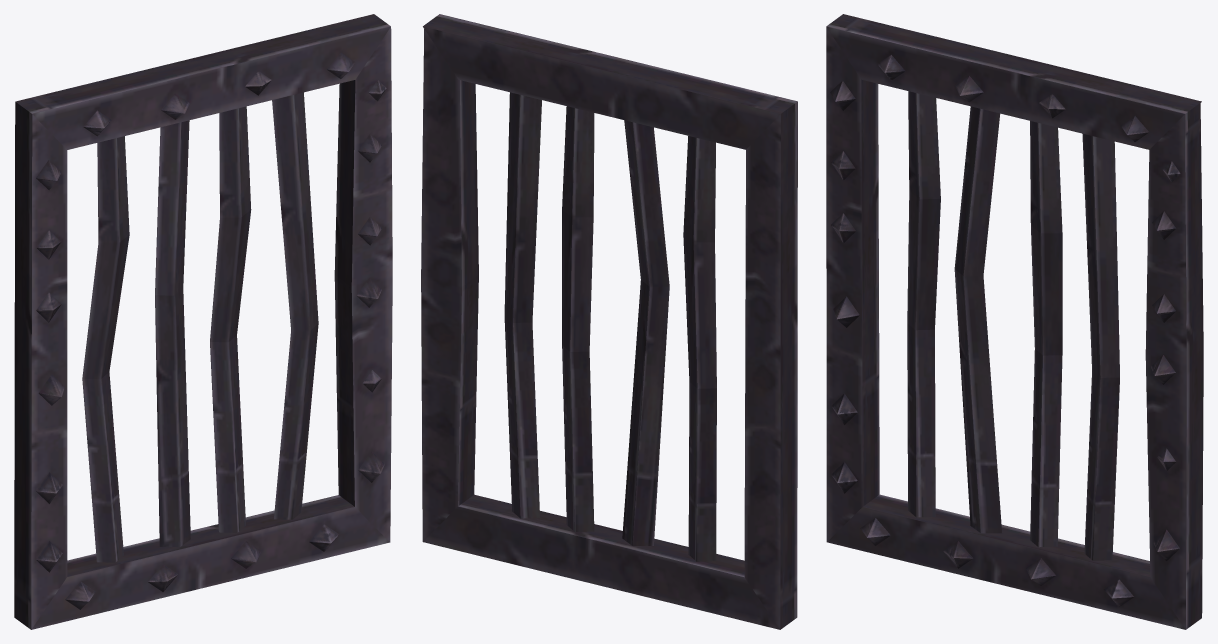
File: lava_wallgrate_02.fbx
3 renders of one model, left to right at view 1: azimuth 30°, elevation 25°; view 2: azimuth 150°, elevation 25°; view 3: azimuth 330°, elevation 25°, orthographic.
Visible parts, largest first — view 1: obj0.104; view 2: obj0.104; view 3: obj0.104.
Boxes of the visible parts, x1,y1,x2,y2 form: obj0.104: [14, 14, 392, 629]; obj0.104: [421, 14, 797, 629]; obj0.104: [826, 14, 1203, 629].
Size of the model in its own units: 4.03 by 5.51 by 0.5889.
